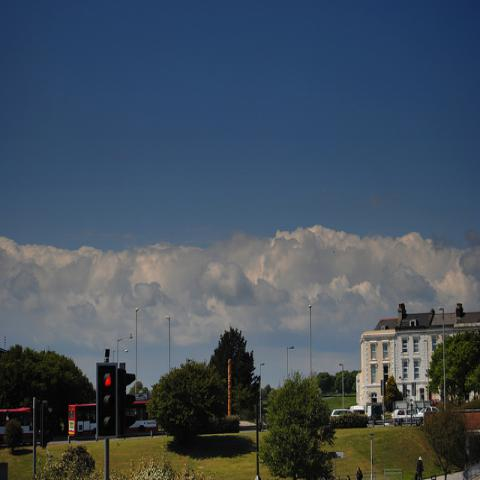bus: (69, 402, 158, 438), (1, 407, 33, 446)
car: (418, 406, 440, 419), (391, 408, 416, 419), (331, 408, 353, 419), (350, 406, 365, 414)
